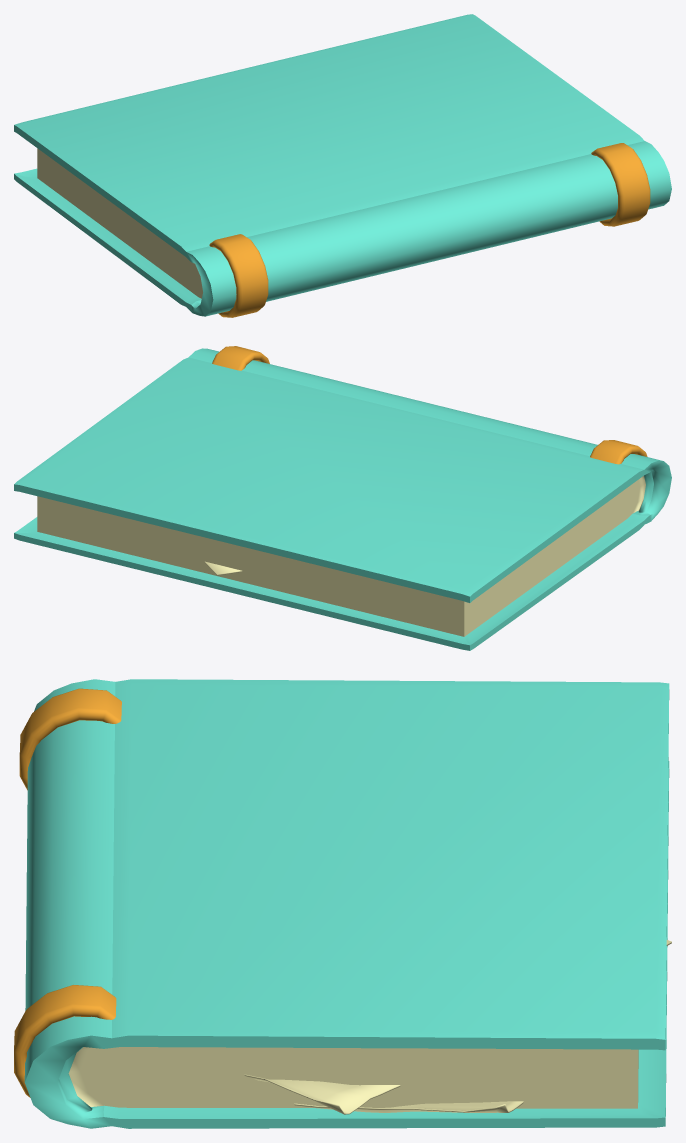
File: book1.fbx
The picture shows the model from 3 angles, top to bottom: view 1: azimuth 30°, elevation 25°; view 2: azimuth 150°, elevation 25°; view 3: azimuth 270°, elevation 25°; orthographic projection. The views are drawn at different scales.
Parts seen in each view (by area): view 1: Cube.014, NurbsPath.014, NurbsPath.004; view 2: Cube.014, NurbsPath.014, NurbsPath.004; view 3: Cube.014, NurbsPath.014, NurbsPath.004, Cube.026, Cube.025.
Part boxes in pixels (box(x1,y1,x2,y2)): Cube.014: box(14, 14, 671, 316); NurbsPath.014: box(591, 143, 650, 226); NurbsPath.004: box(209, 234, 268, 317); Cube.014: box(14, 348, 671, 650); NurbsPath.014: box(212, 346, 269, 370); NurbsPath.004: box(590, 440, 647, 464); Cube.014: box(24, 679, 669, 1128); NurbsPath.014: box(14, 985, 116, 1097); NurbsPath.004: box(19, 688, 121, 790); Cube.026: box(244, 940, 671, 1114); Cube.025: box(294, 1101, 523, 1112).
Bounding box in the file's own units: 979 × 139 × 718.
